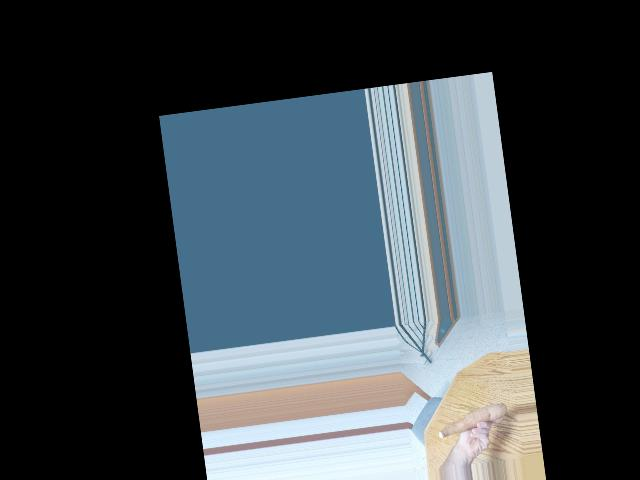sweet_potato: (433, 398, 507, 439)
